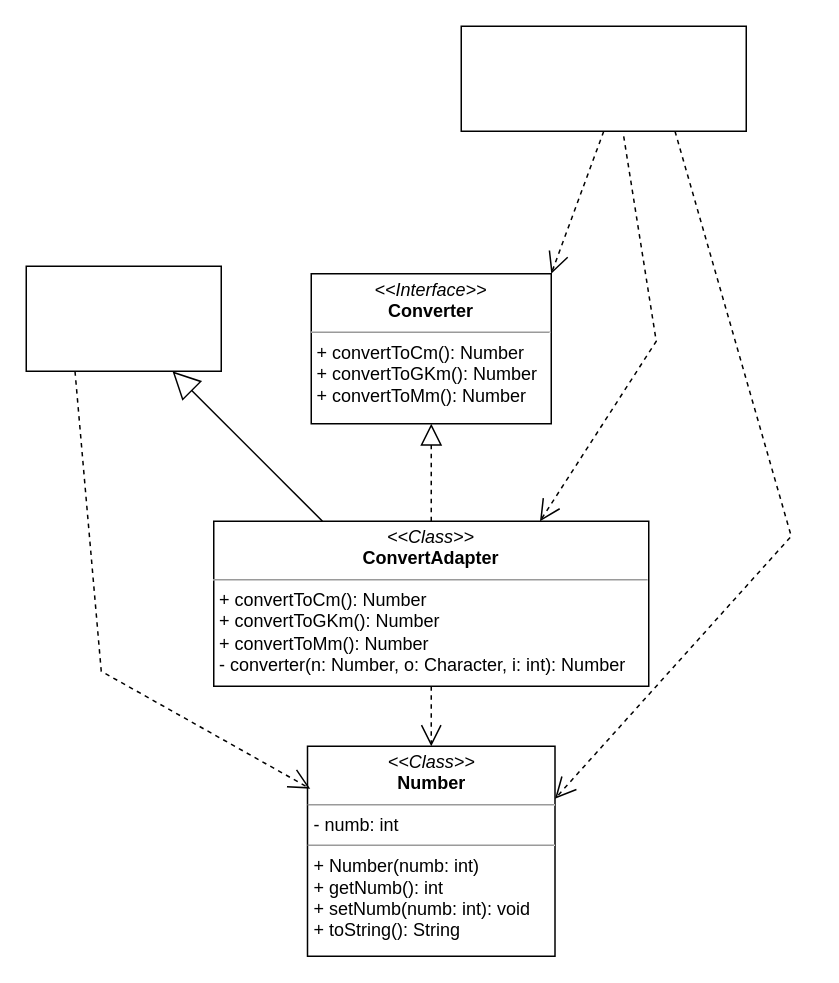
This 839x983 diagram has some shape labels left out. Each missing label, with the box of its shape:
<<Class>> Decimetr + getNumb(): Number: (25, 265, 221, 371)
<<Class>> Main + main(args: String[]): void: (460, 25, 746, 131)
